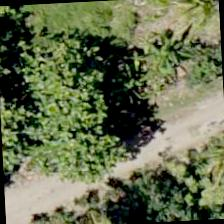Kelapa_Sawit: (156, 0, 221, 49)
